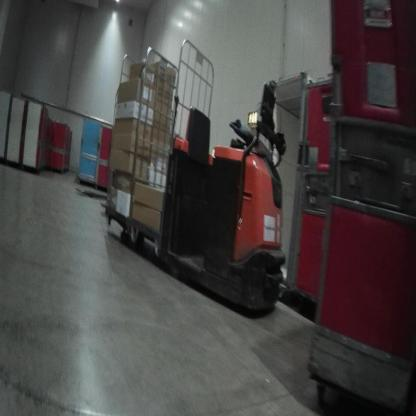pallet_truck: (94, 73, 294, 317)
